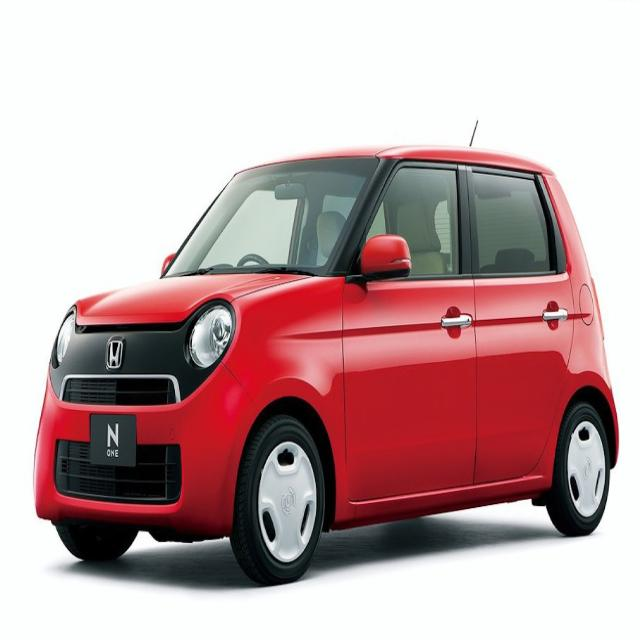door: (462, 162, 579, 479)
front_bumper: (34, 361, 261, 539)
front_glass: (160, 154, 380, 277)
front_left_side_door: (342, 157, 478, 503)
front_left_side_light: (184, 303, 234, 369)
front_left_side_mirror: (356, 232, 412, 280)
front_right_side_light: (53, 308, 77, 367)
front_right_side_mirror: (160, 251, 177, 280)
wheel: (232, 413, 326, 586), (544, 400, 611, 536)
